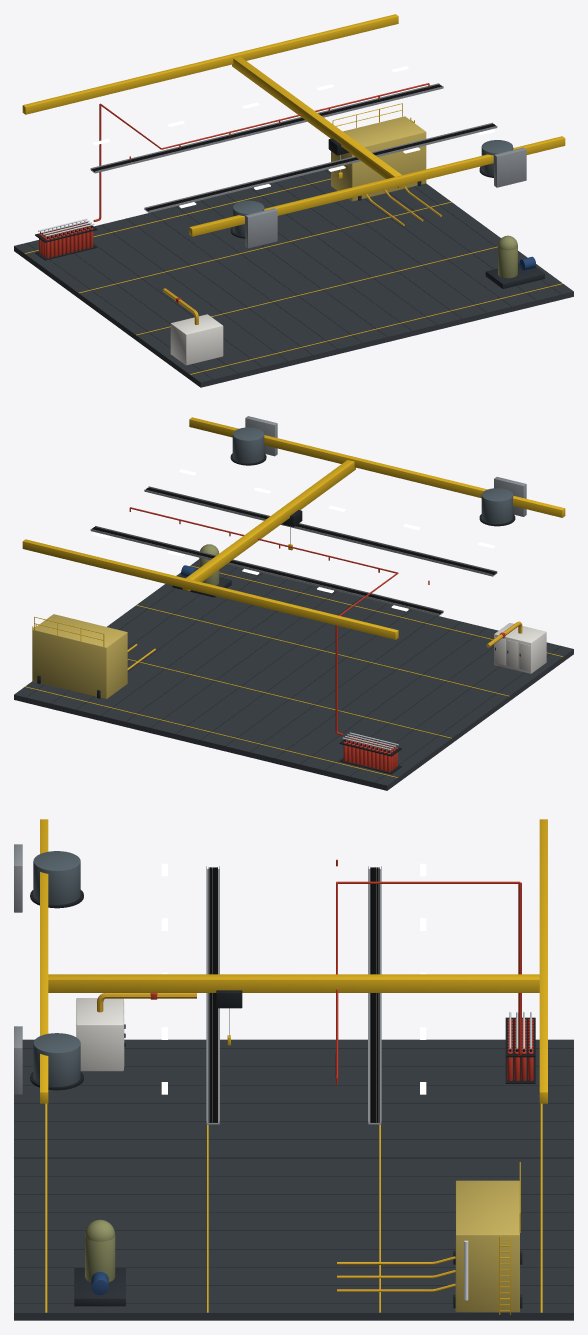
The model's file is roomkit.glb.
3 views of the same model, one above another, from view 1: azimuth 30°, elevation 25°; view 2: azimuth 150°, elevation 25°; view 3: azimuth 270°, elevation 25° (orthographic). The views are drawn at different scales.
Visible parts, largest first — view 1: floor, crane, cable_tray, day, fans, co2, gvu, sep, lights; view 2: floor, crane, day, cable_tray, fans, co2, gvu, sep, lights; view 3: floor, crane, day, cable_tray, fans, gvu, co2, sep, lights.
Part boxes in pixels (box(x1,y1,x2,y2)): floor: box(14, 169, 573, 387); crane: box(22, 14, 565, 236); cable_tray: box(90, 83, 497, 212); day: box(331, 103, 441, 225); fans: box(230, 140, 526, 248); co2: box(35, 83, 429, 260); gvu: box(162, 288, 223, 365); sep: box(485, 235, 544, 288); lights: box(93, 66, 494, 208); floor: box(14, 559, 573, 790); crane: box(22, 417, 565, 639); day: box(32, 614, 155, 699); cable_tray: box(90, 486, 497, 615); fans: box(230, 416, 526, 526); co2: box(129, 507, 429, 774); gvu: box(486, 621, 546, 673); sep: box(172, 544, 231, 597); lights: box(93, 469, 494, 611); floor: box(14, 1039, 573, 1320); crane: box(40, 819, 547, 1103); day: box(337, 1162, 522, 1314); cable_tray: box(206, 866, 381, 1124); fans: box(14, 844, 83, 1094); gvu: box(76, 993, 196, 1071); co2: box(335, 859, 535, 1084); sep: box(74, 1219, 125, 1306); lights: box(161, 863, 426, 1094).
Bounding box in the file's own units: 30.23 × 12.2 × 26.
